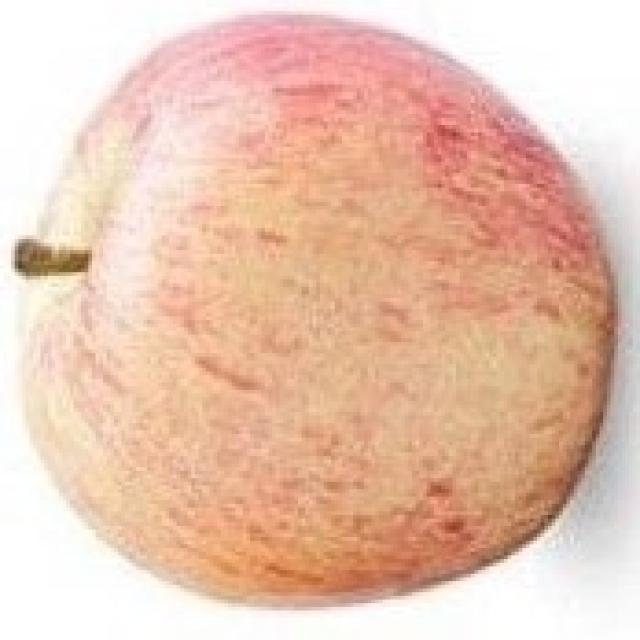75-_ripeness: (13, 12, 620, 611)
